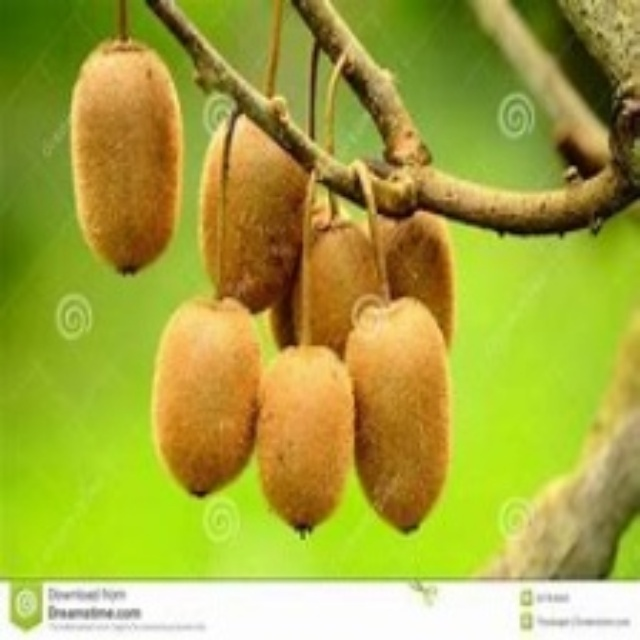kiwi: (293, 189, 476, 357), (66, 40, 186, 273), (133, 295, 267, 500), (347, 300, 453, 535), (251, 338, 361, 556), (198, 118, 302, 315)
